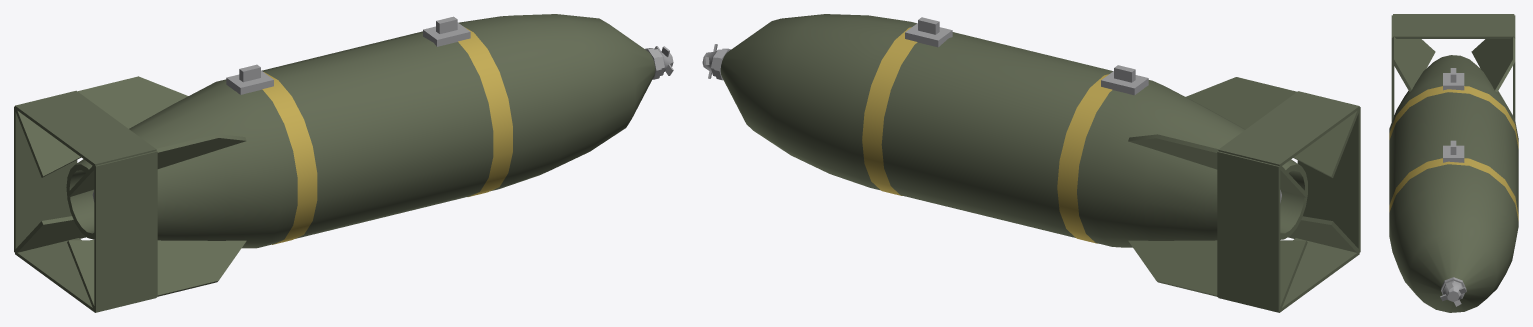
Rendered from bombs_3.glb.
3 views of the same model, side by side, from view 1: azimuth 30°, elevation 25°; view 2: azimuth 150°, elevation 25°; view 3: azimuth 270°, elevation 25° (orthographic). The views are drawn at different scales.
Visible parts, largest first — view 1: bombs_3; view 2: bombs_3; view 3: bombs_3.
Boxes of the visible parts, left/top/right/bottom form: bombs_3: left=14, top=14, right=673, bottom=312; bombs_3: left=702, top=14, right=1360, bottom=312; bombs_3: left=1389, top=14, right=1518, bottom=312.
Size of the model in its own units: 0.66 by 0.1761 by 0.1597.
